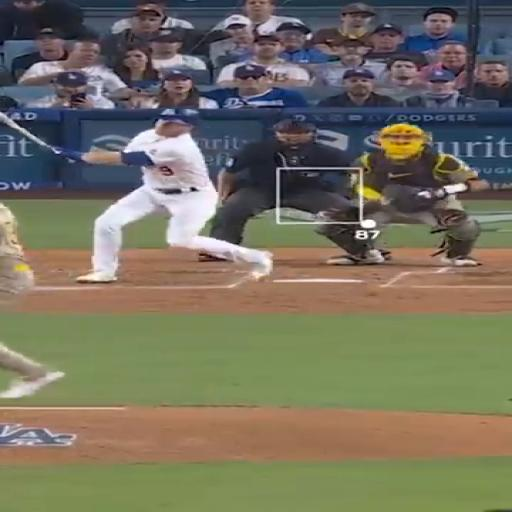bat: (0, 112, 54, 151)
